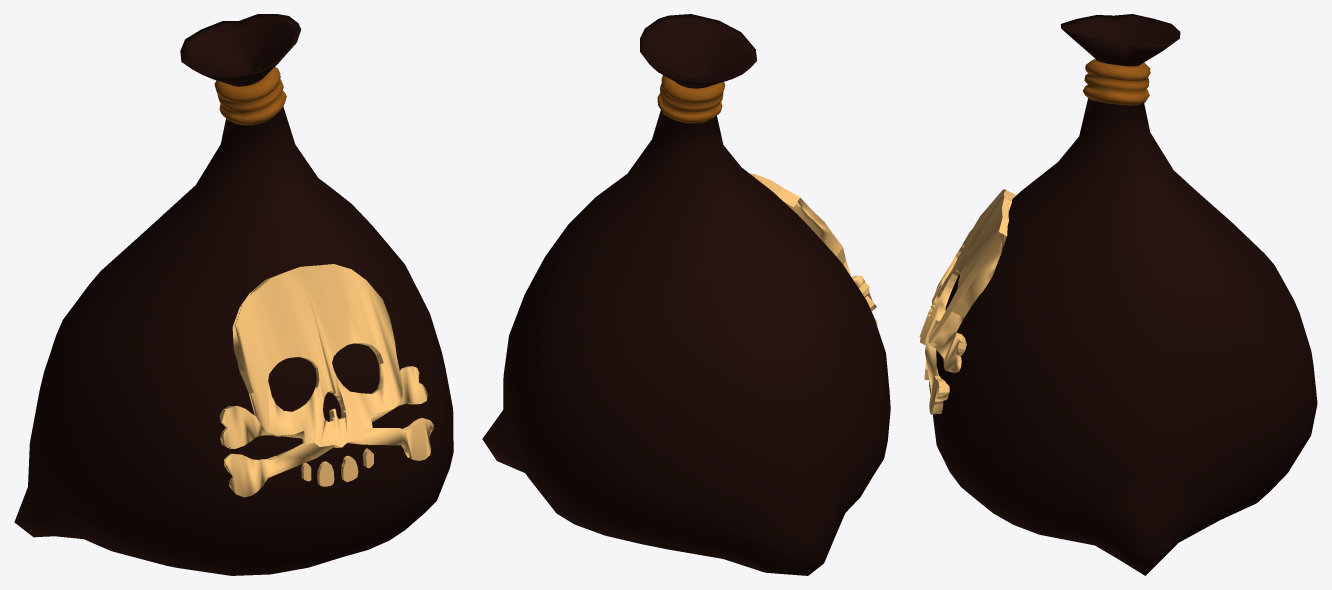
File: money beg.fbx
3 views of the same model, side by side, from view 1: azimuth 30°, elevation 25°; view 2: azimuth 150°, elevation 25°; view 3: azimuth 270°, elevation 25° (orthographic). The views are drawn at different scales.
Parts seen in each view (by area): view 1: money beg; view 2: money beg; view 3: money beg.
Part boxes in pixels (x1=…): money beg: x1=14, y1=14, x2=453, y2=575; money beg: x1=482, y1=14, x2=890, y2=575; money beg: x1=919, y1=14, x2=1317, y2=575.
Bounding box in the file's own units: 69.91 × 85.94 × 65.01.
Materials: 1 (1 with a texture image).
